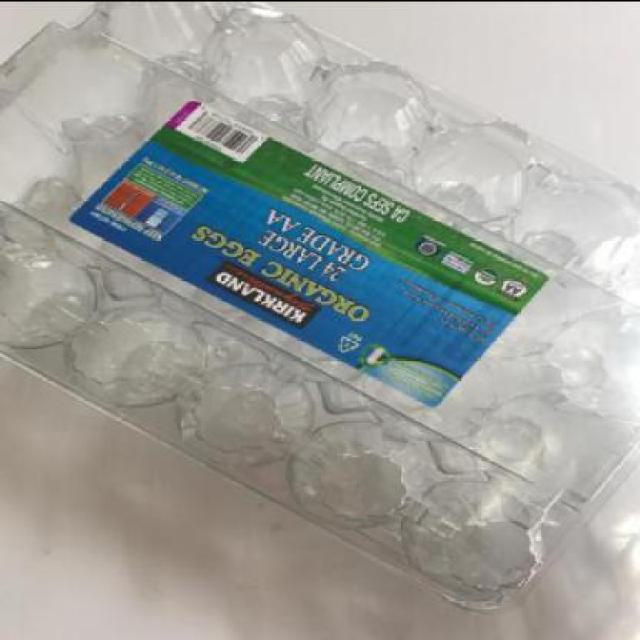PLASTIC: (0, 1, 638, 612)
